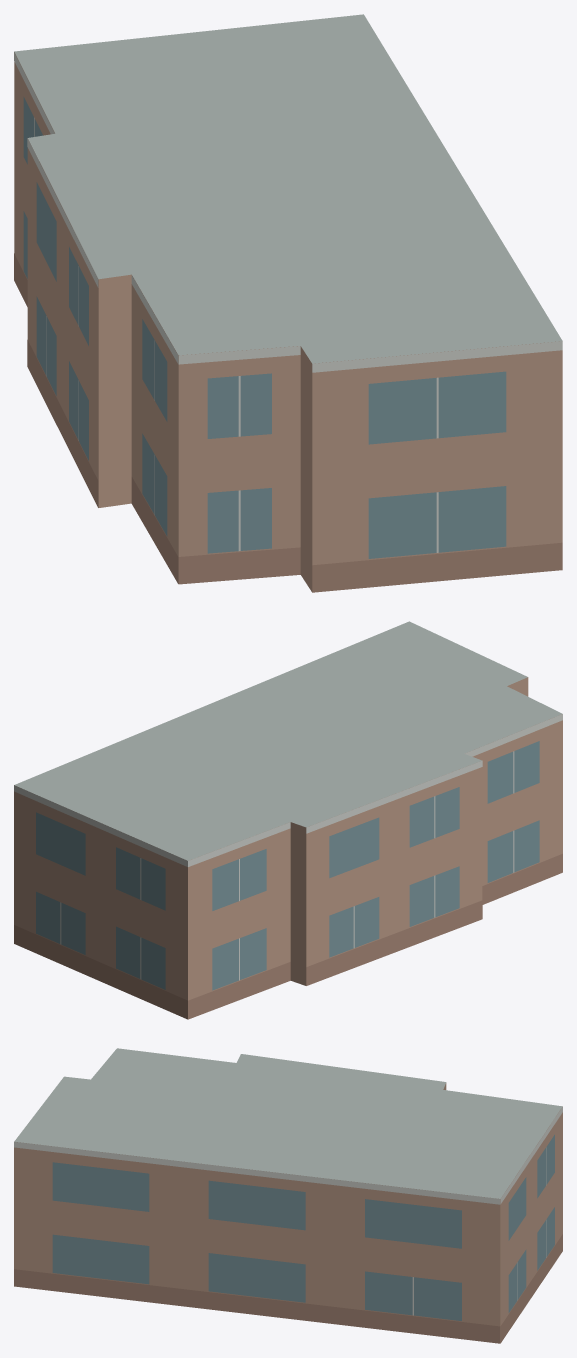
File: survey-upis-32702926.glb
3 views of the same model, one above another, from view 1: azimuth 30°, elevation 25°; view 2: azimuth 150°, elevation 25°; view 3: azimuth 270°, elevation 25° (orthographic). The views are drawn at different scales.
Visible parts, largest first — view 1: survey-upis-32702926.tmp; view 2: survey-upis-32702926.tmp; view 3: survey-upis-32702926.tmp.
Boxes of the visible parts, bbox=[...] form: survey-upis-32702926.tmp: bbox=[14, 14, 562, 592]; survey-upis-32702926.tmp: bbox=[14, 621, 562, 1019]; survey-upis-32702926.tmp: bbox=[14, 1048, 562, 1343].
Bounding box in the file's own units: 13.63 × 6.1 × 20.97.
